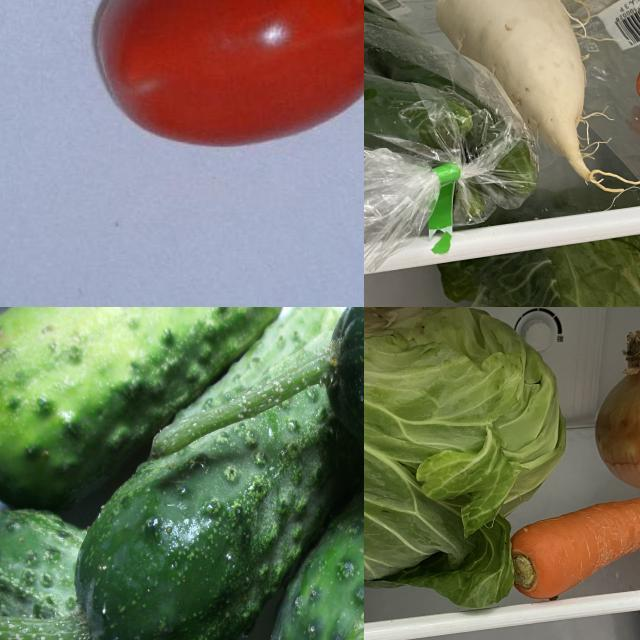cabbage: (365, 308, 573, 616), (438, 236, 640, 308)
carrot: (509, 485, 640, 603)
cucumber: (63, 308, 365, 640), (1, 308, 299, 507), (188, 456, 365, 640)
onion: (593, 329, 640, 498)
tomato: (77, 1, 365, 168)
